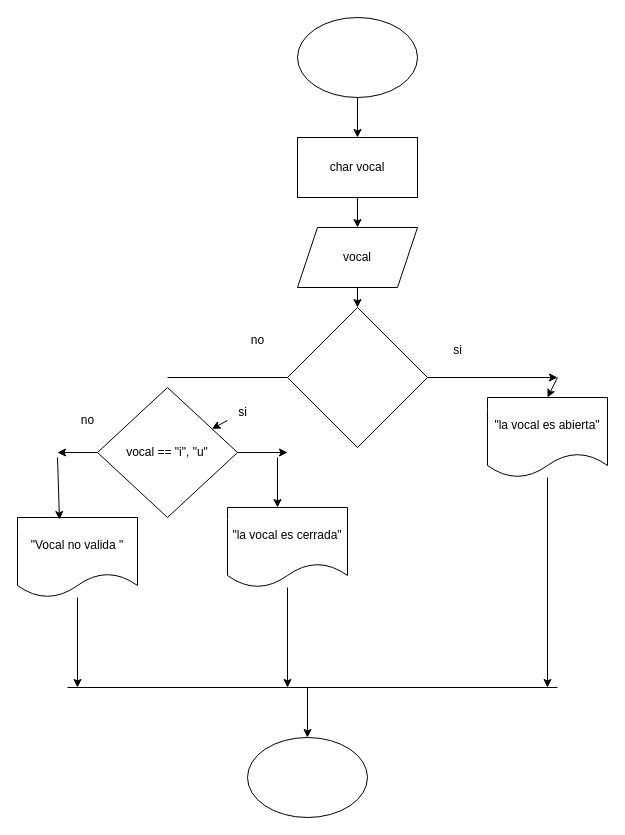
The diagram is 625 pixels wide and 835 high, and some of its shapes have lost their labels. Here are the shapes that lost their labels. From the top down, the box of each, then its label:
(296, 16, 418, 98): inicio
(286, 306, 428, 448): vocal == "a", "e", "o"
(246, 736, 368, 818): FIN
